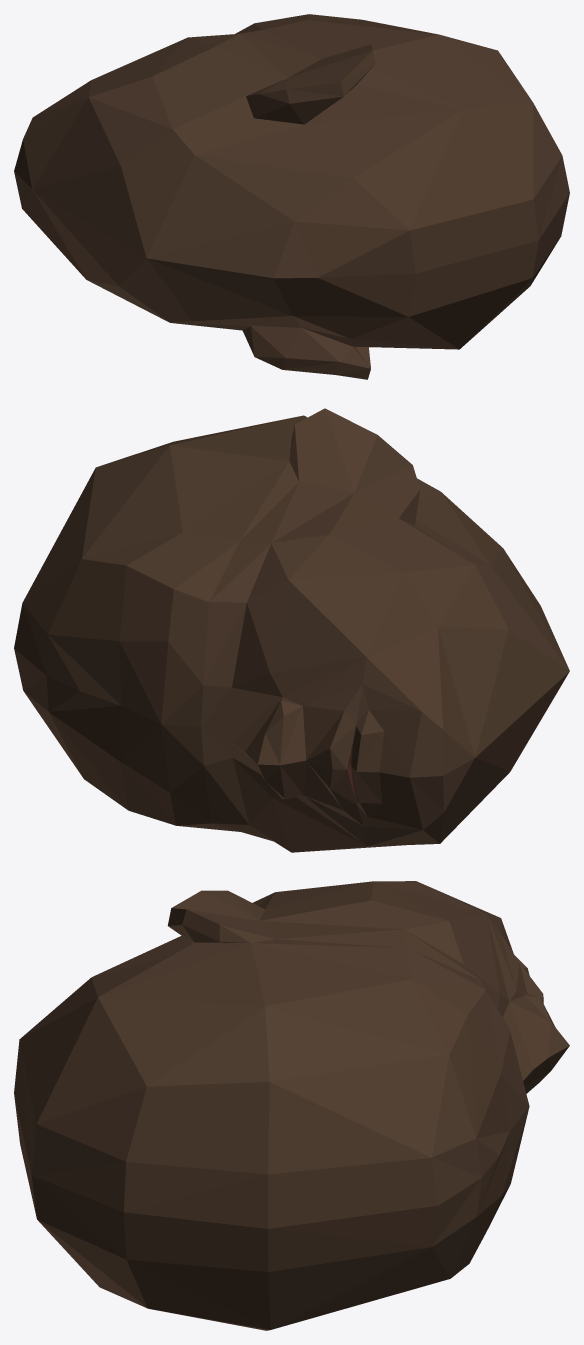
The model's file is HUM_HEAD_BABE.OBJ.
The picture shows the model from 3 angles, top to bottom: view 1: azimuth 30°, elevation 25°; view 2: azimuth 150°, elevation 25°; view 3: azimuth 270°, elevation 25°; orthographic projection. The views are drawn at different scales.
Parts seen in each view (by area): view 1: HUM_HEAD_BABE; view 2: HUM_HEAD_BABE; view 3: HUM_HEAD_BABE.
Part boxes in pixels (x1,y1,x2,y2): HUM_HEAD_BABE: [14, 14, 569, 379]; HUM_HEAD_BABE: [14, 408, 569, 852]; HUM_HEAD_BABE: [14, 881, 569, 1330].
Bounding box in the file's own units: 0.2493 × 0.1835 × 0.2307.
